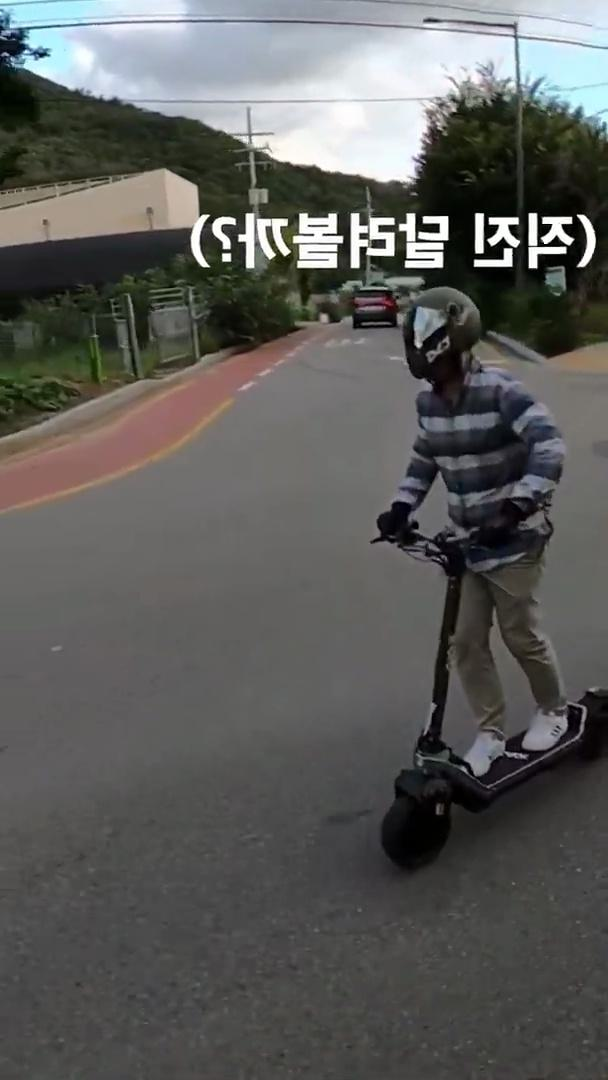helmet: (366, 285, 607, 873)
